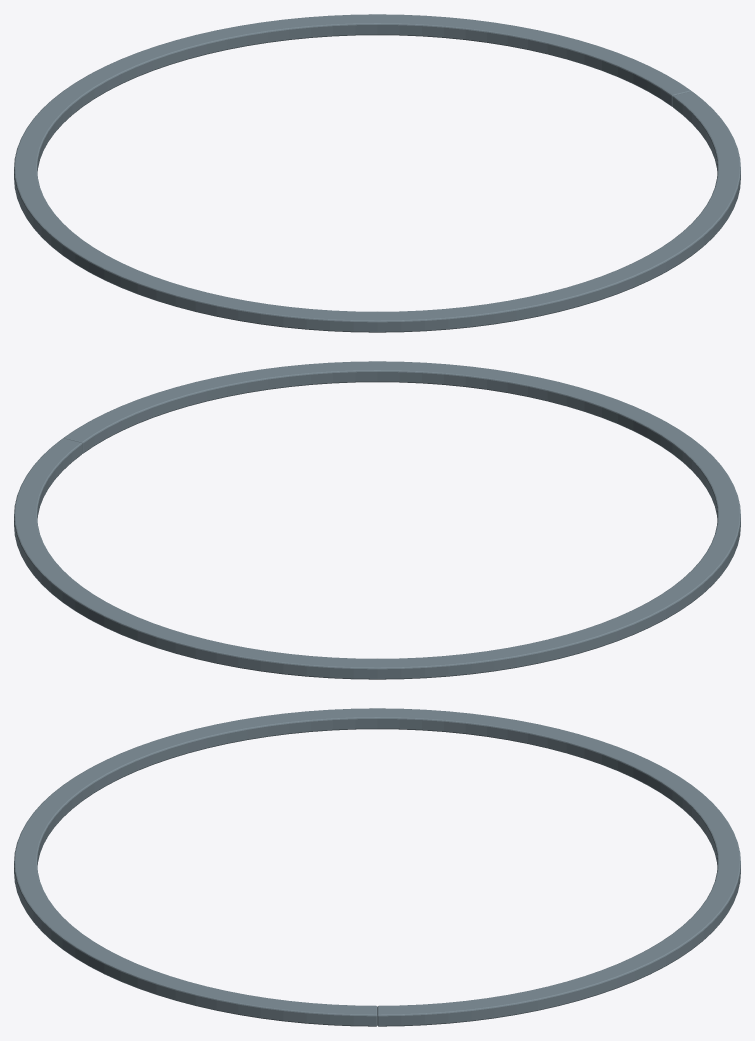
Rendered from SM_Lab_ReactorStructure__RetainingRing_6_12.fbx.
3 views of the same model, one above another, from view 1: azimuth 30°, elevation 25°; view 2: azimuth 150°, elevation 25°; view 3: azimuth 270°, elevation 25° (orthographic).
Visible parts, largest first — view 1: SM_Lab_ReactorStructure__RetainingRing_6_12; view 2: SM_Lab_ReactorStructure__RetainingRing_6_12; view 3: SM_Lab_ReactorStructure__RetainingRing_6_12.
Boxes of the visible parts, x1,y1,x2,y2 form: SM_Lab_ReactorStructure__RetainingRing_6_12: [14, 14, 740, 332]; SM_Lab_ReactorStructure__RetainingRing_6_12: [14, 361, 740, 679]; SM_Lab_ReactorStructure__RetainingRing_6_12: [14, 708, 740, 1026].
Bounding box in the file's own units: 438 × 438 × 8.
